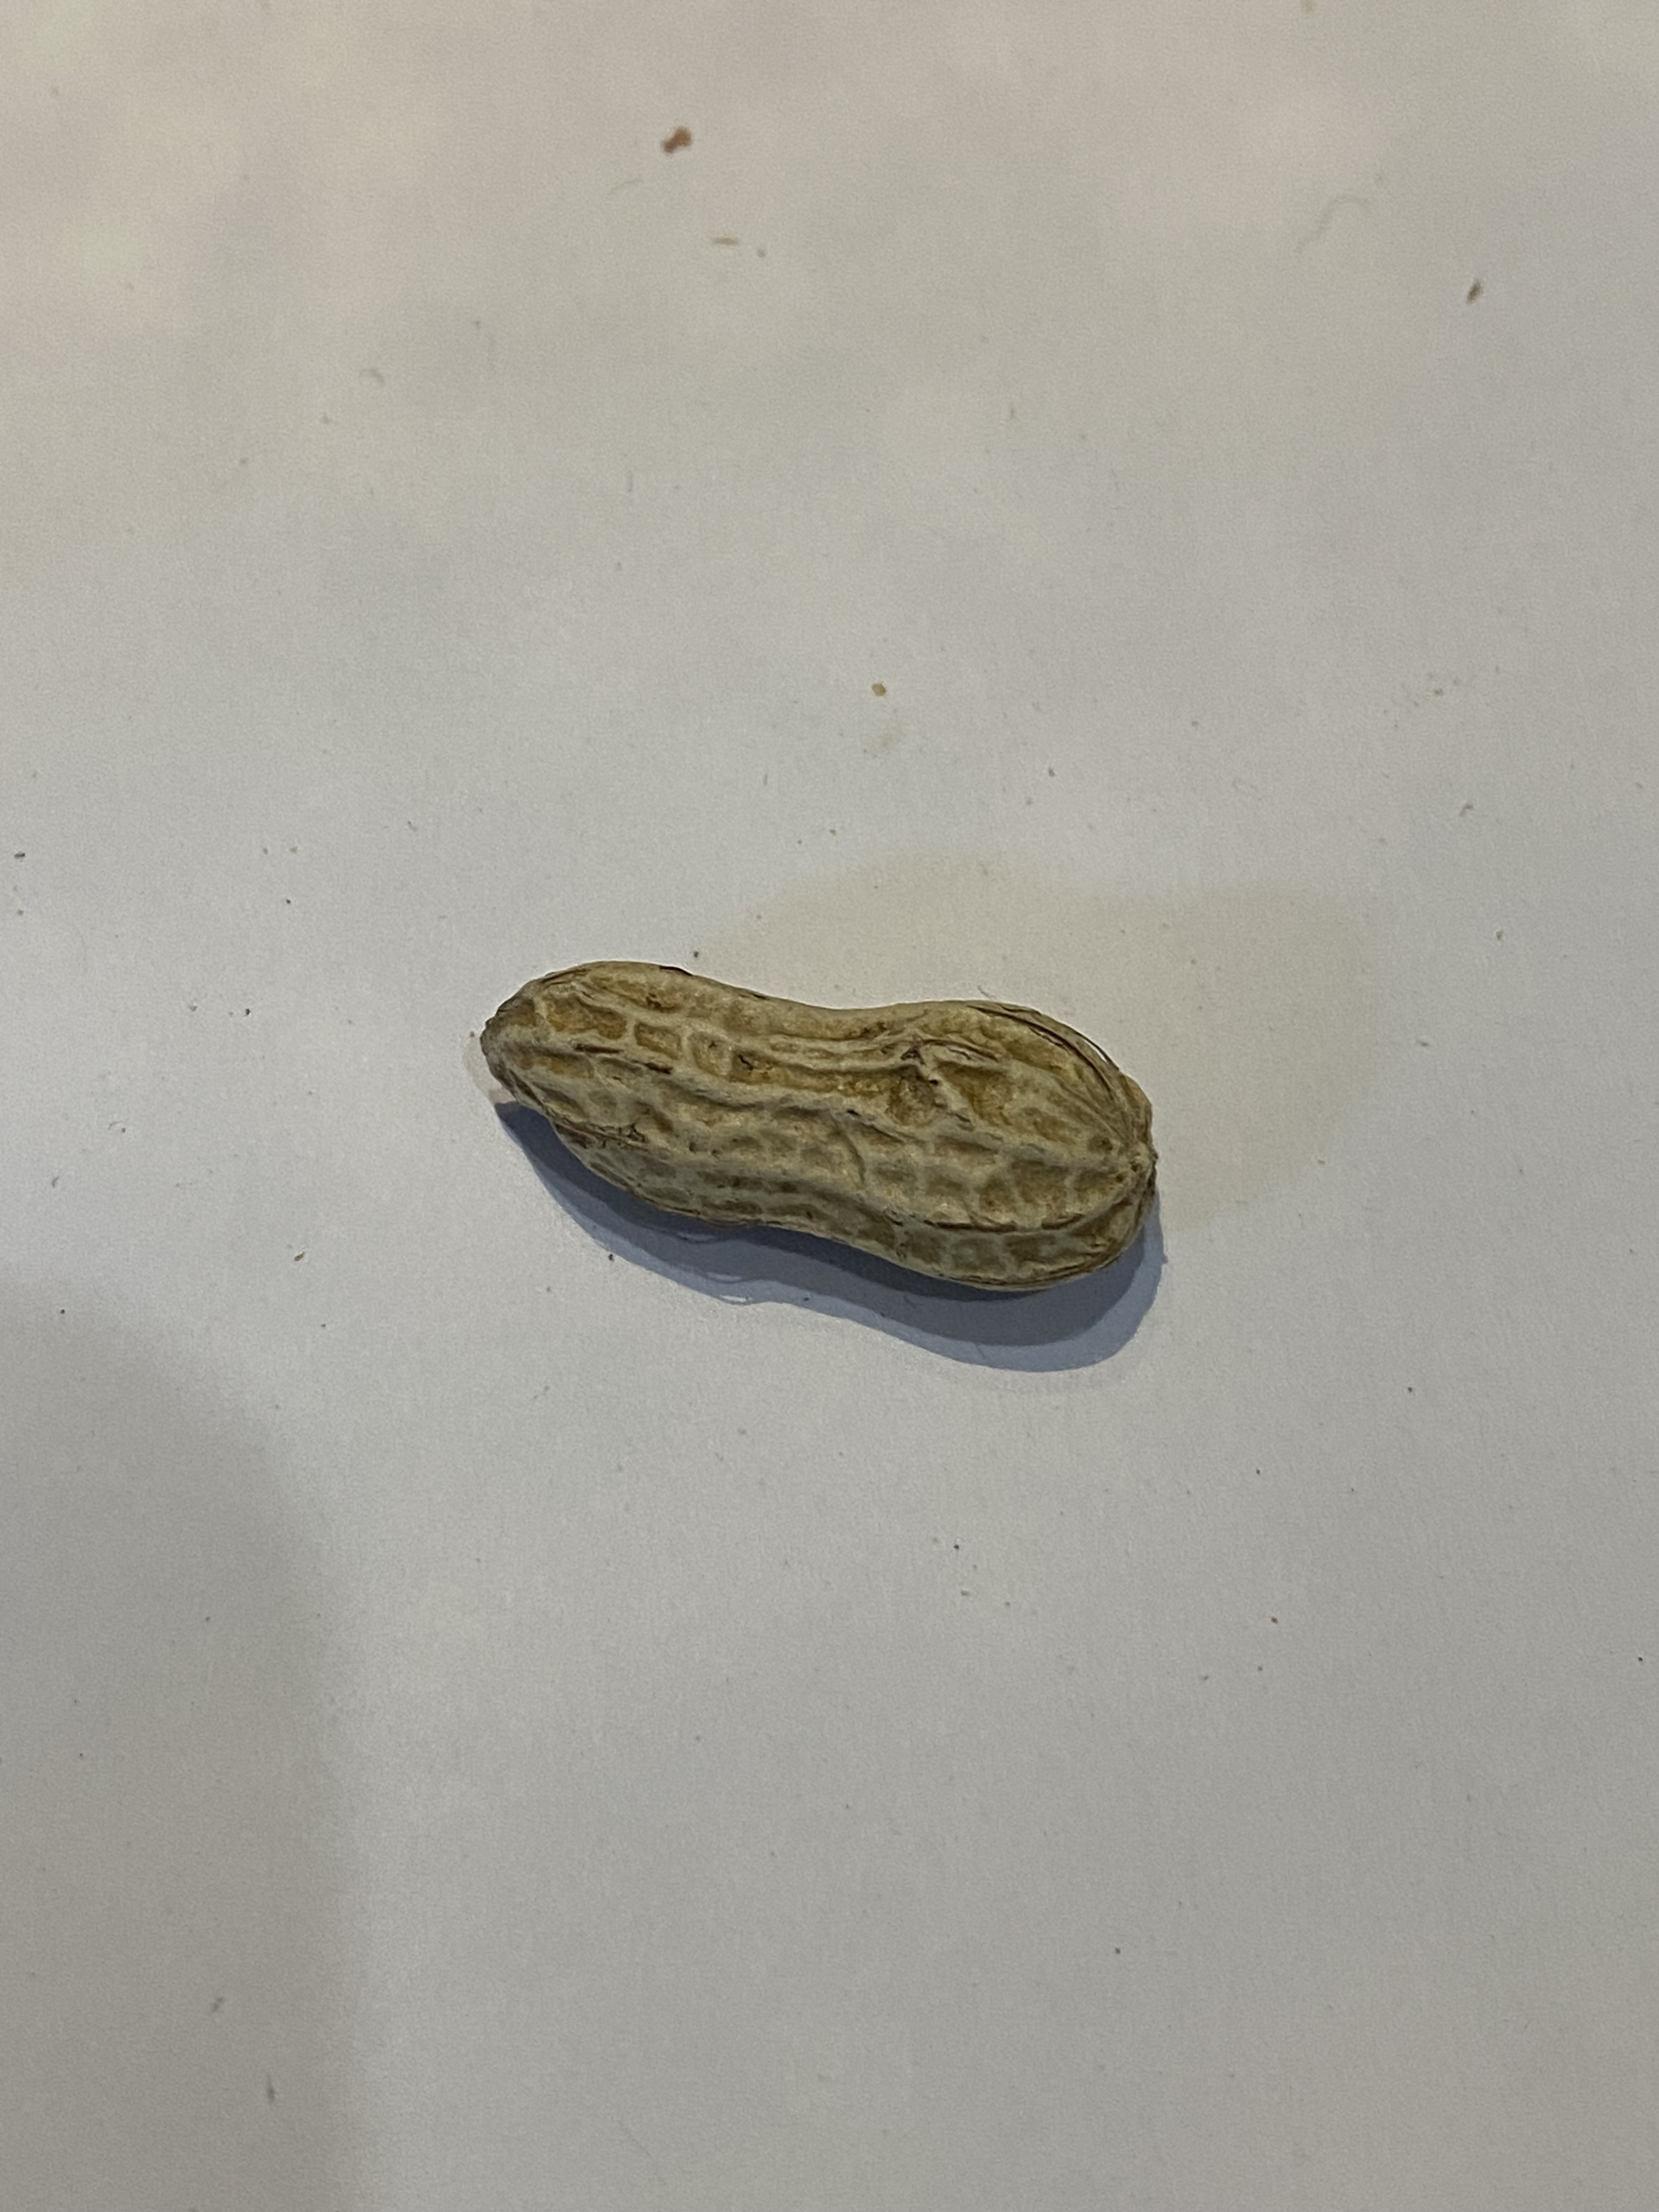kacang2: (437, 925, 1218, 1301)
